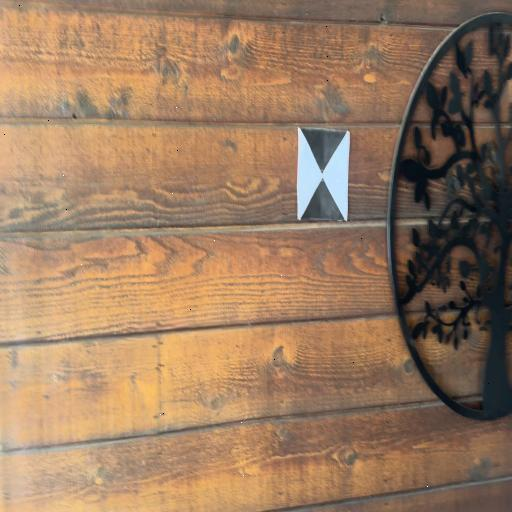target: (298, 126, 350, 221)
